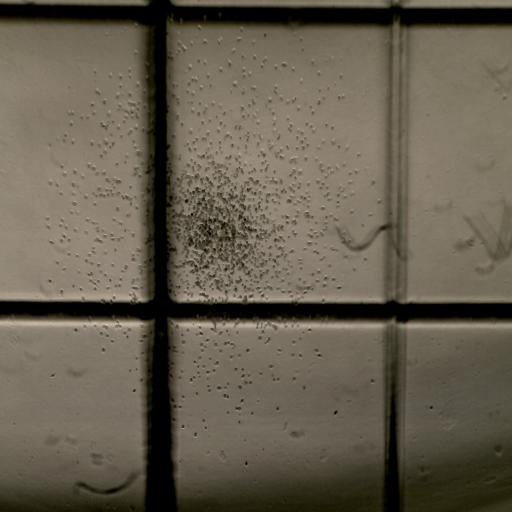CFU-GM: (172, 141, 284, 302)
